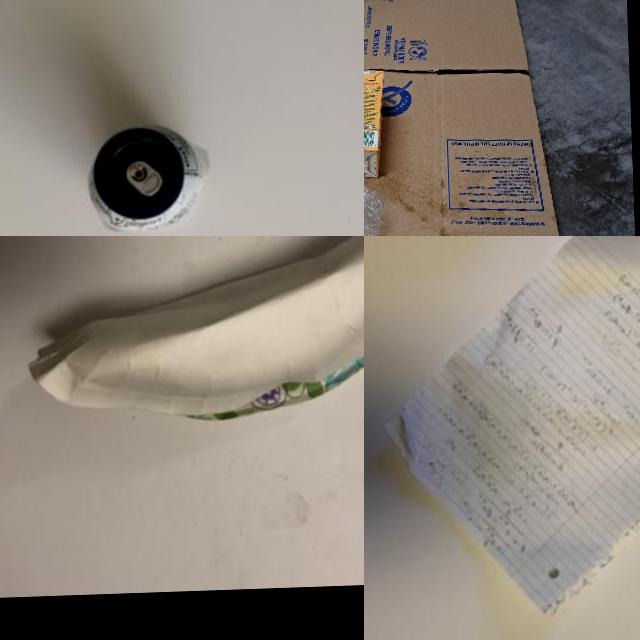aba de lata: (126, 161, 164, 196)
caixinha: (364, 69, 387, 179)
lata: (86, 126, 204, 236)
papel: (380, 236, 640, 619), (21, 236, 364, 426)
papelão: (364, 0, 579, 236)
